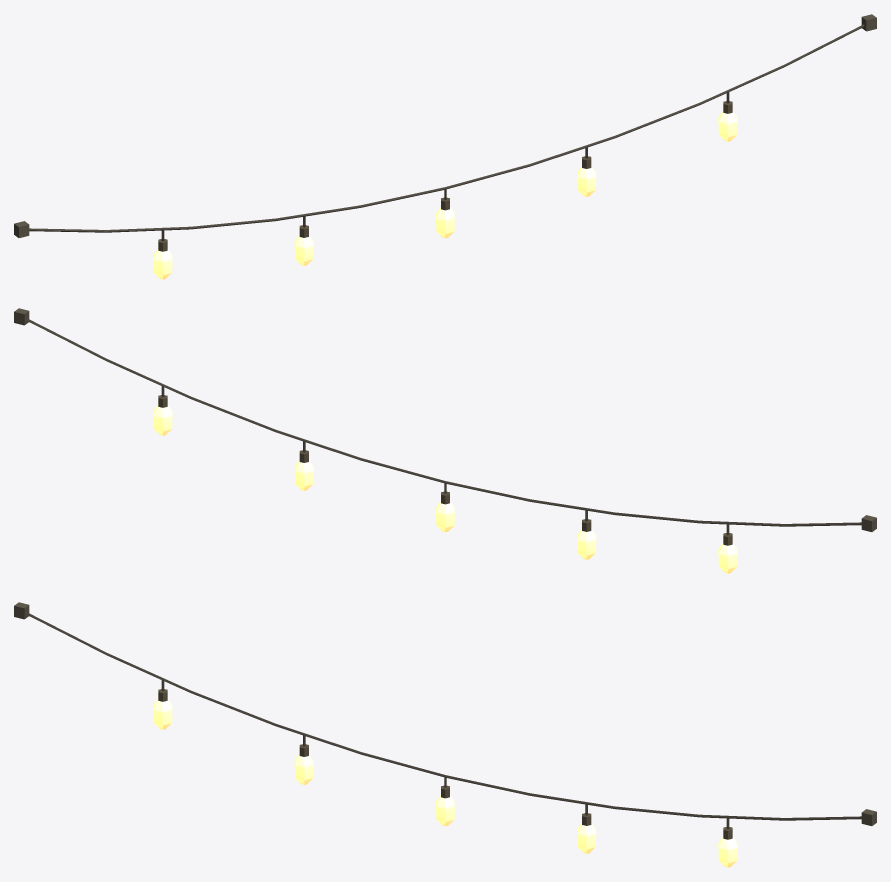
Rendered from string_lights_medium.glb.
3 views of the same model, one above another, from view 1: azimuth 30°, elevation 25°; view 2: azimuth 150°, elevation 25°; view 3: azimuth 330°, elevation 25° (orthographic).
Parts seen in each view (by area): view 1: winter_string_lights_medium; view 2: winter_string_lights_medium; view 3: winter_string_lights_medium.
Boxes of the visible parts, <box> form: winter_string_lights_medium: <box>14,14,876,279</box>; winter_string_lights_medium: <box>14,308,876,573</box>; winter_string_lights_medium: <box>14,602,876,867</box>.
Size of the model in its own units: 4.05 by 0.525 by 0.0779.
Materials: 2 (2 with a texture image).
